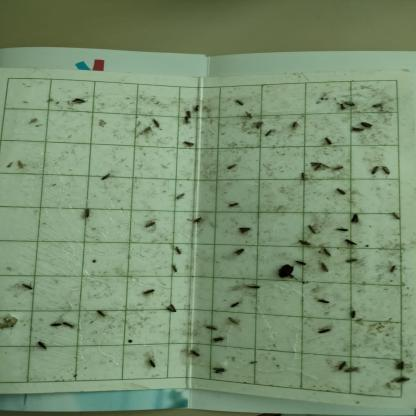prays_oleae: (86, 296, 108, 329), (207, 358, 231, 382), (19, 271, 35, 304), (390, 368, 414, 390), (33, 327, 50, 358), (291, 249, 312, 273), (82, 202, 96, 237), (307, 156, 329, 178), (137, 284, 160, 305), (142, 352, 160, 378), (69, 94, 90, 116), (314, 290, 337, 309), (171, 185, 191, 206), (377, 157, 393, 182), (366, 158, 384, 180), (179, 136, 195, 160), (226, 157, 244, 178), (242, 105, 257, 130), (181, 340, 198, 362), (237, 221, 256, 240), (208, 330, 228, 348), (344, 362, 364, 380), (298, 232, 315, 253), (322, 128, 338, 150), (260, 123, 276, 145), (314, 322, 336, 338), (173, 236, 188, 259), (344, 254, 362, 273), (298, 164, 311, 190), (138, 220, 159, 236), (306, 213, 318, 240), (204, 313, 220, 333), (226, 194, 242, 214), (48, 311, 62, 333), (165, 299, 182, 317), (332, 160, 351, 176), (192, 211, 204, 236), (97, 168, 115, 184), (224, 294, 242, 310), (290, 112, 302, 136), (64, 312, 75, 337), (323, 243, 337, 262), (341, 236, 363, 248), (319, 260, 332, 280), (342, 96, 358, 112), (330, 186, 347, 201), (335, 356, 348, 375), (391, 209, 404, 226), (387, 260, 398, 280), (235, 246, 247, 264), (348, 126, 365, 138), (331, 224, 351, 234), (150, 118, 163, 132), (169, 262, 180, 278), (225, 317, 243, 326), (369, 100, 383, 110), (361, 118, 372, 130)
